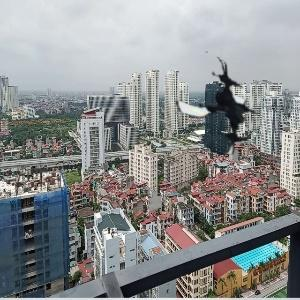drone: (165, 54, 268, 157)
